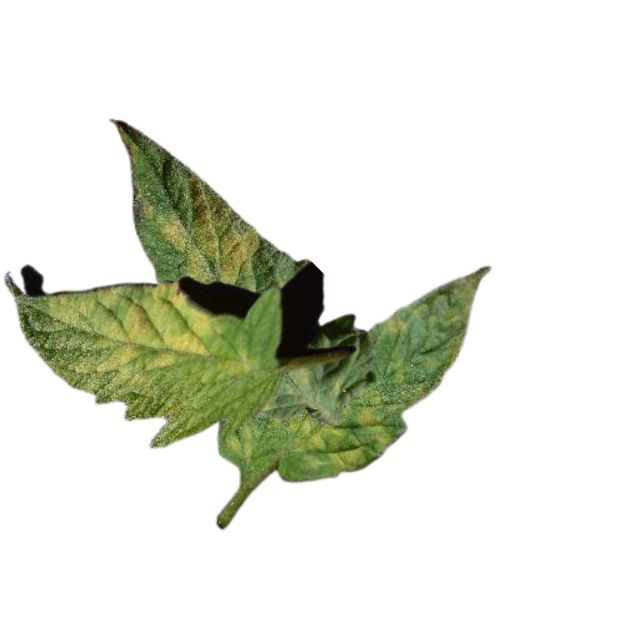Leaf_Mold: (42, 281, 212, 403), (161, 172, 260, 285), (270, 406, 339, 450), (215, 340, 261, 385), (360, 387, 391, 445), (327, 446, 365, 474), (379, 312, 406, 335)
